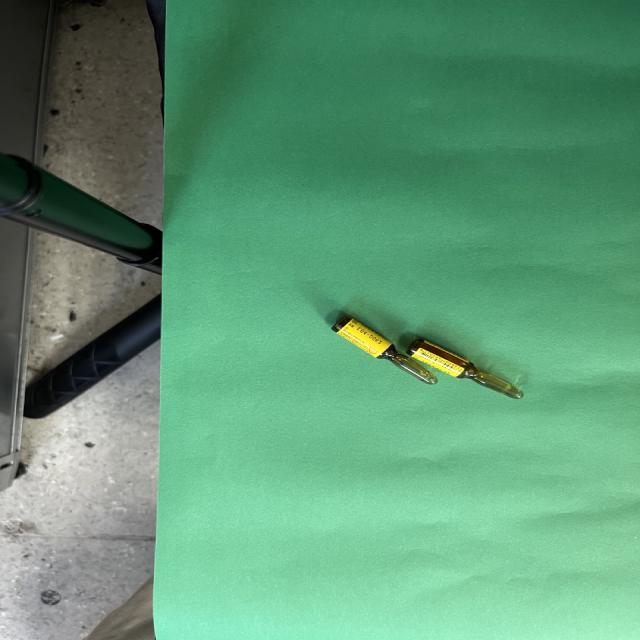Ampoules: (331, 316, 436, 384), (406, 338, 523, 399)
